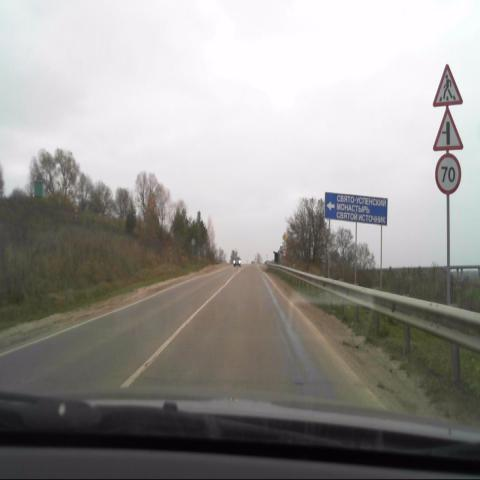2_3_3: (433, 108, 463, 152)
